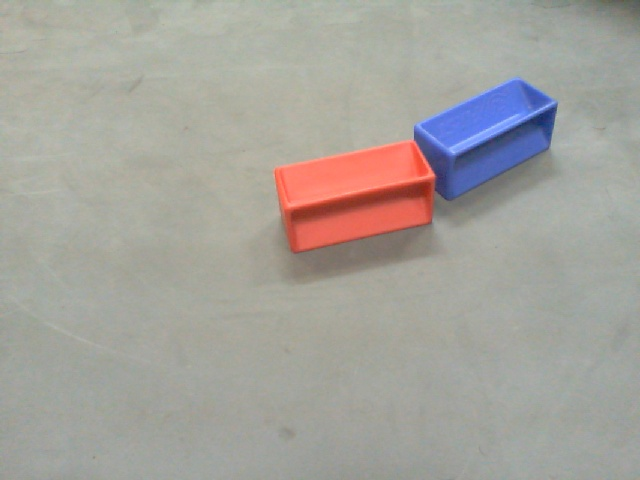BlueSample: (410, 74, 564, 197)
RedSample: (265, 138, 443, 258)
